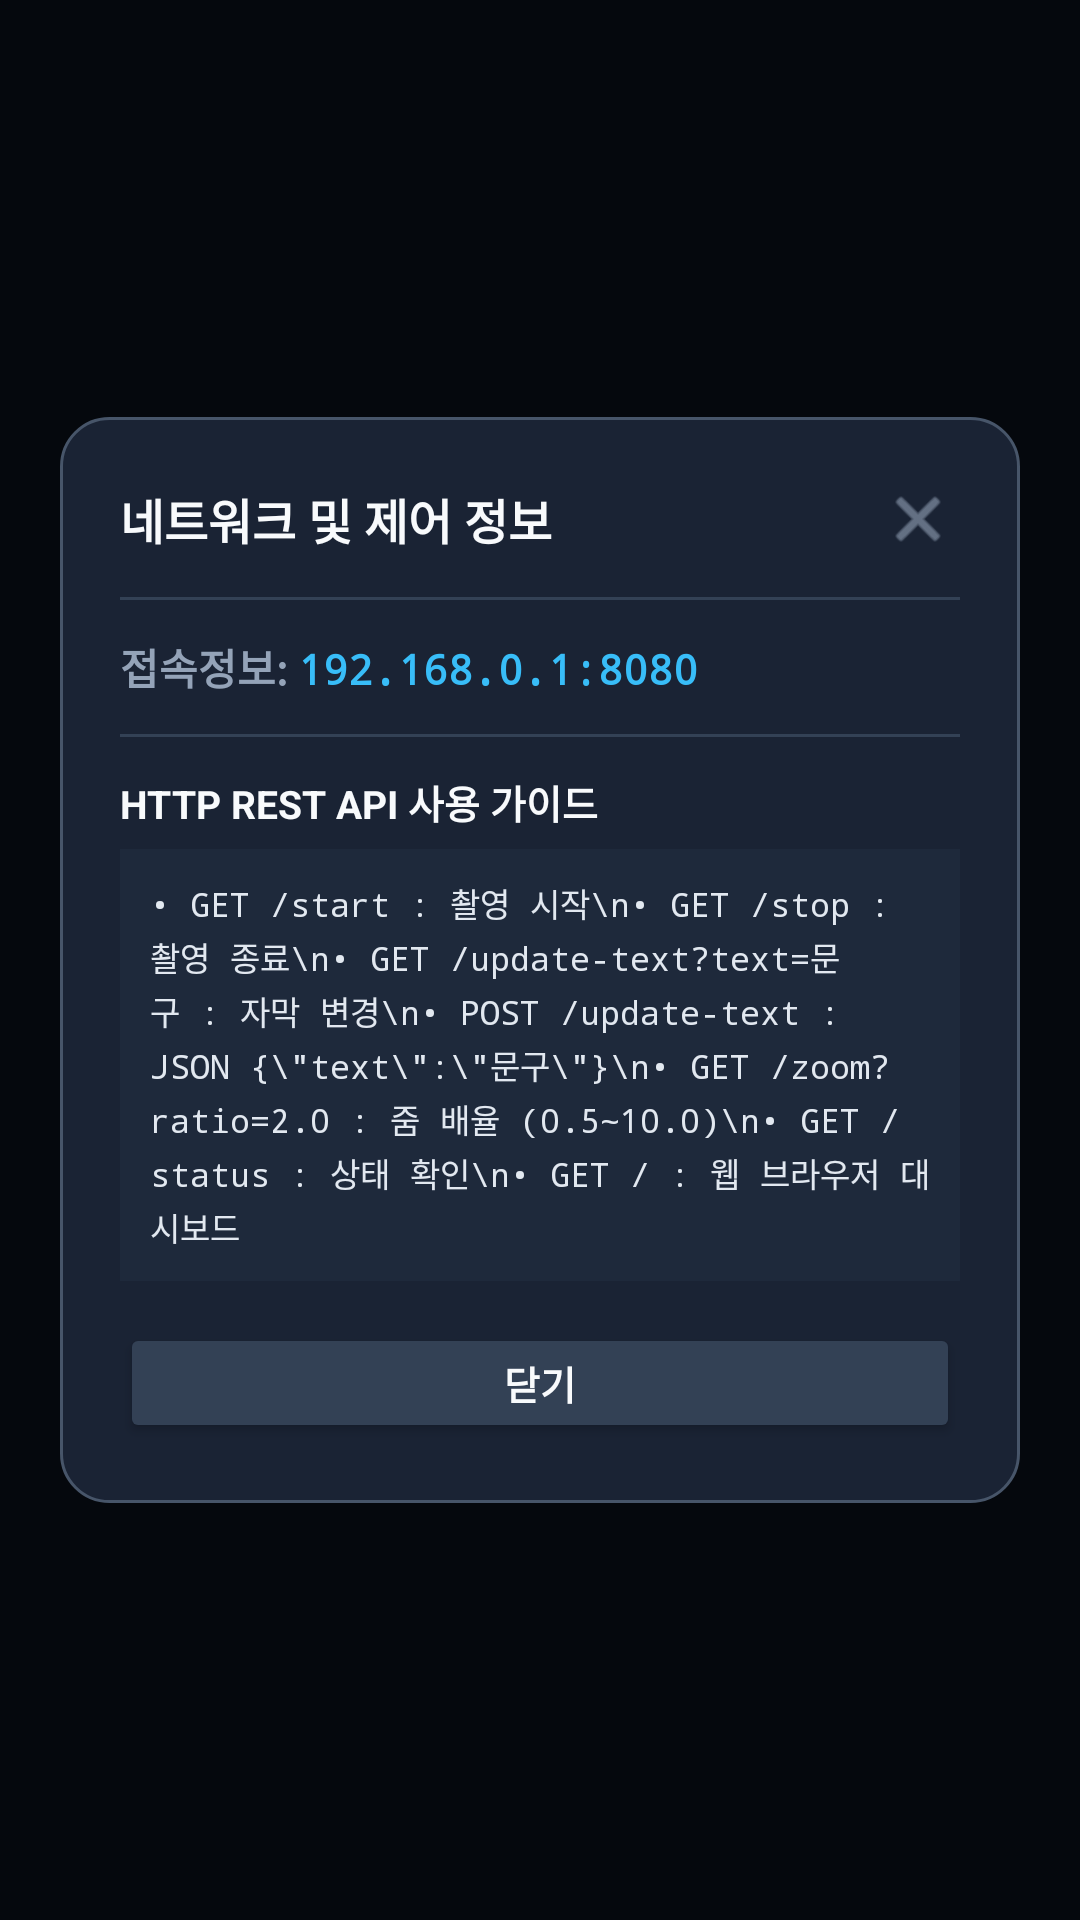

Icon click points for this 1080w x 1920h phone screenshot, format [x,y]:
Close: [918,519]
